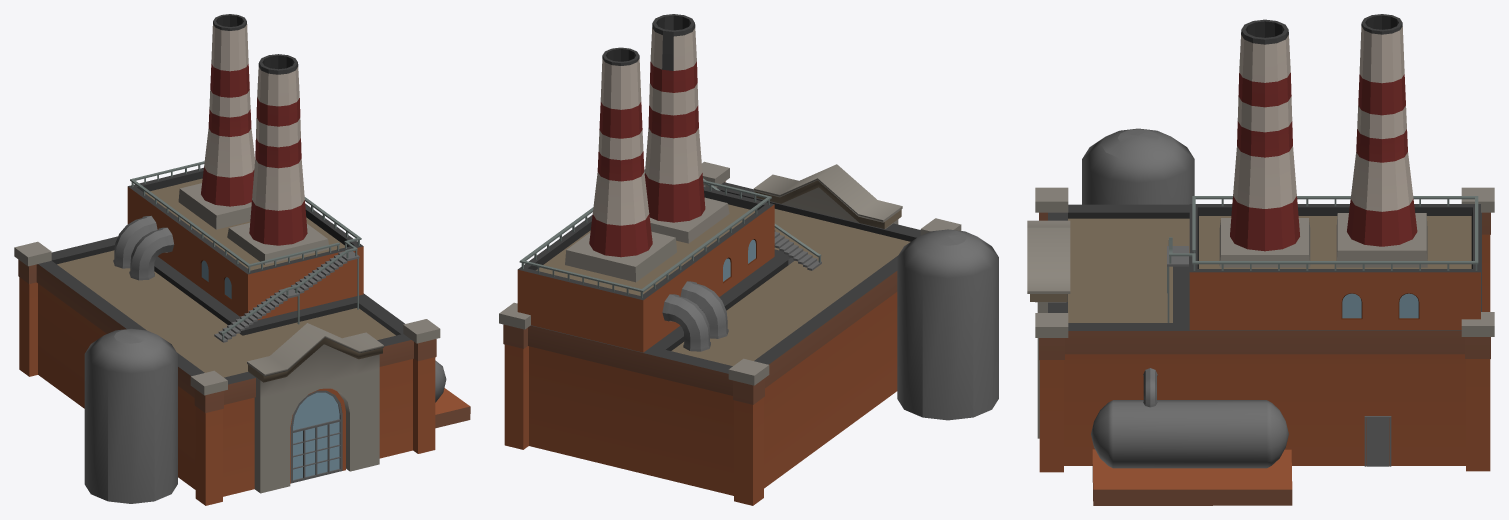
File: HT_detailing_facnory.fbx
The picture shows the model from 3 angles, left to right: view 1: azimuth 30°, elevation 25°; view 2: azimuth 150°, elevation 25°; view 3: azimuth 270°, elevation 25°; orthographic projection. The views are drawn at different scales.
Parts seen in each view (by area): view 1: first_floor, second_floor, tank, fa_e, pCylinder10, pCylinder12, pCube8 (×3), door1, pCube9 (×3), pCube213, pCube6, pCube168 (+4 smaller); view 2: first_floor, second_floor, tank, pCylinder10, pCylinder12, pCube8 (×2), fa_e, pCube7, pCube213, pCylinder8, pCube6, pCylinder5 (+2 smaller); view 3: first_floor, second_floor, pCylinder10, pCylinder4, pCylinder12, pCube3, pCube8 (×3), tank, fa_e, pCube9 (×4), pCube7, pCube213 (+3 smaller).
Boxes of the visible parts, x1,y1,x2,y2 form: first_floor: [36, 236, 413, 496]; second_floor: [127, 167, 363, 335]; tank: [84, 328, 177, 503]; fa_e: [247, 323, 383, 493]; pCylinder10: [249, 54, 307, 245]; pCylinder12: [201, 14, 255, 206]; pCube8 (×3): [18, 259, 436, 505]; door1: [290, 388, 345, 483]; pCube9 (×3): [14, 241, 440, 395]; pCube213: [130, 161, 361, 334]; pCube6: [227, 222, 329, 264]; pCube168: [214, 251, 359, 342]; first_floor: [528, 182, 920, 495]; second_floor: [517, 187, 794, 352]; tank: [897, 229, 998, 420]; pCylinder10: [644, 14, 705, 222]; pCylinder12: [589, 47, 652, 257]; pCube8 (×2): [503, 324, 764, 505]; fa_e: [753, 164, 902, 229]; pCube7: [565, 231, 676, 282]; pCube213: [519, 169, 821, 292]; pCylinder8: [662, 294, 710, 351]; pCube6: [649, 197, 729, 243]; pCylinder5: [680, 281, 728, 338]; first_floor: [1048, 204, 1481, 465]; second_floor: [1173, 204, 1480, 330]; pCylinder10: [1230, 19, 1299, 251]; pCylinder4: [1091, 400, 1288, 468]; pCylinder12: [1347, 14, 1417, 246]; pCube3: [1092, 449, 1292, 505]; pCube8 (×3): [1039, 212, 1490, 472]; tank: [1082, 128, 1194, 204]; fa_e: [1027, 220, 1070, 438]; pCube9 (×4): [1035, 187, 1494, 337]; pCube7: [1336, 213, 1427, 267]; pCube213: [1169, 196, 1478, 264].
Bounding box in the file's own units: 17.11 × 15.45 × 15.86.
